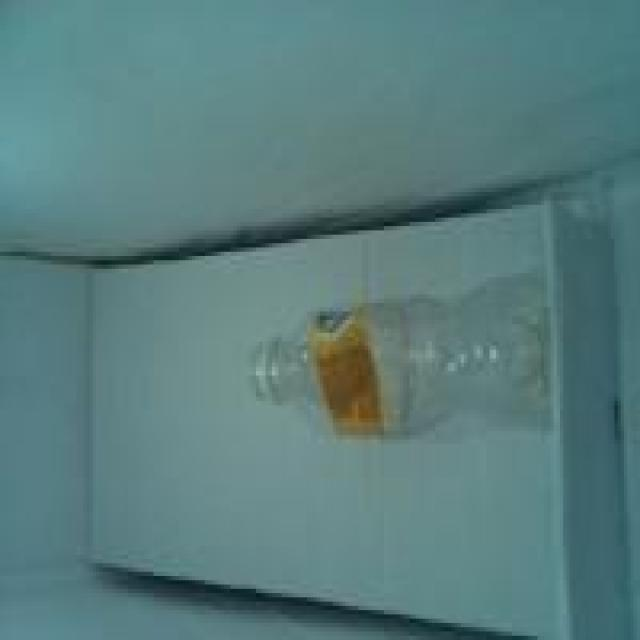bottle: (243, 301, 570, 450)
